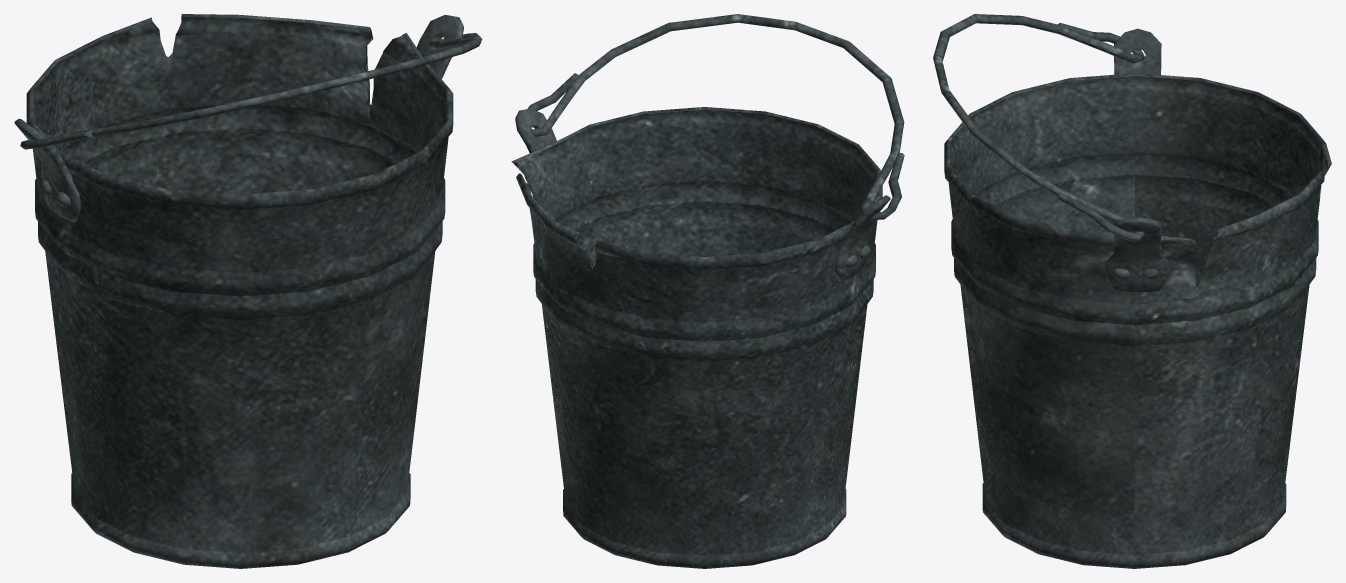
File: bucket.obj
3 renders of one model, left to right at view 1: azimuth 30°, elevation 25°; view 2: azimuth 150°, elevation 25°; view 3: azimuth 270°, elevation 25°, orthographic. The views are drawn at different scales.
Parts seen in each view (by area): view 1: bucket01; view 2: bucket01; view 3: bucket01.
Part boxes in pixels (box(x1,y1,x2,y2)): bucket01: box(14, 14, 482, 568); bucket01: box(511, 14, 904, 568); bucket01: box(933, 14, 1331, 568).
Size of the model in its own units: 12.08 by 12.95 by 10.36.
1 material, 1 textured.
